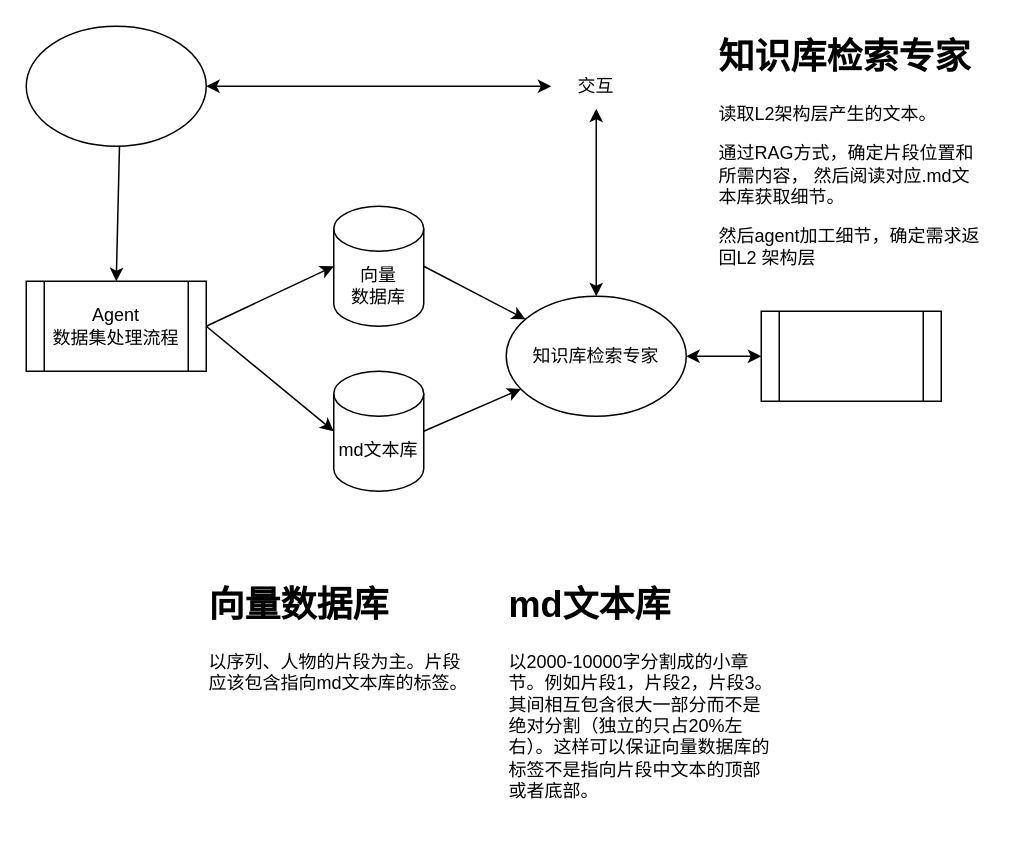
Image size: 1013x852. Some labels were removed from this diagram. The shapes that lost their labels are listed below. From the top down, each one's centre as x and y in pixels, then its label:
pixel 115 85: L2 架构层
pixel 850 355: RAG+Agent整理
